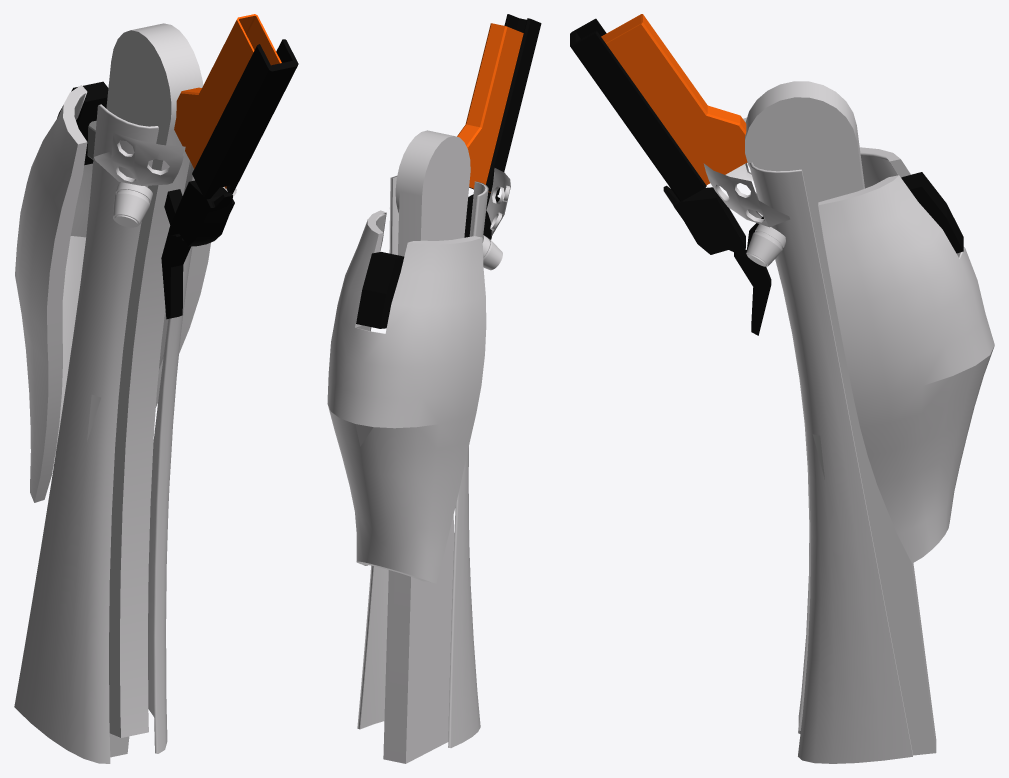
Rendered from leftShank.obj.
The picture shows the model from 3 angles, left to right: view 1: azimuth 30°, elevation 25°; view 2: azimuth 150°, elevation 25°; view 3: azimuth 270°, elevation 25°; orthographic projection. The views are drawn at different scales.
Visible parts, largest first — view 1: leftShank1; view 2: leftShank1; view 3: leftShank1.
Part boxes in pixels (x1=…): leftShank1: x1=14, y1=14, x2=298, y2=763; leftShank1: x1=327, y1=14, x2=541, y2=763; leftShank1: x1=570, y1=14, x2=994, y2=763.
Size of the model in its own units: 0.6255 by 2.96 by 1.51.
